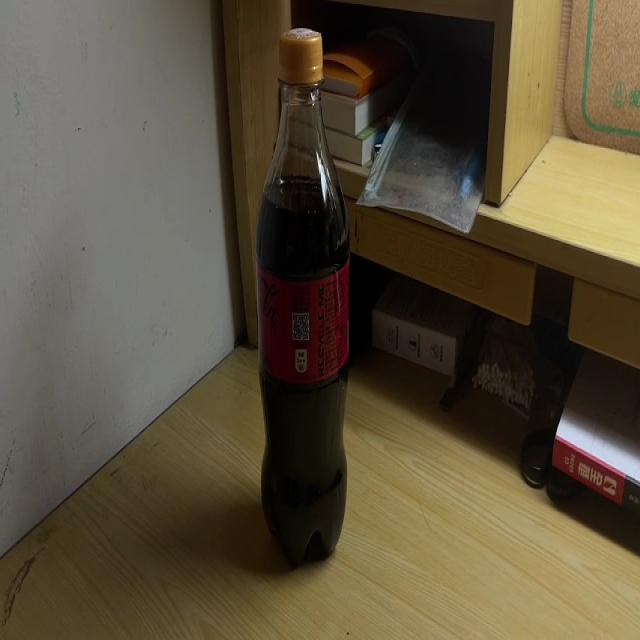Coca-Cola: (256, 25, 350, 568)
